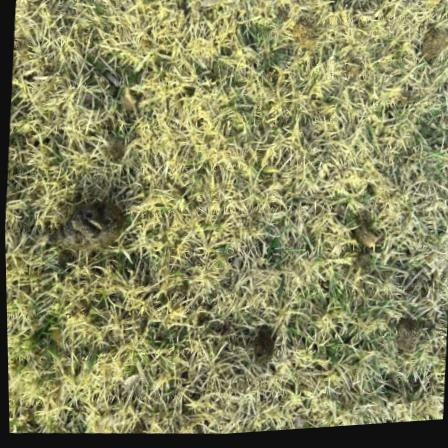dog-poop: (46, 187, 130, 259)
